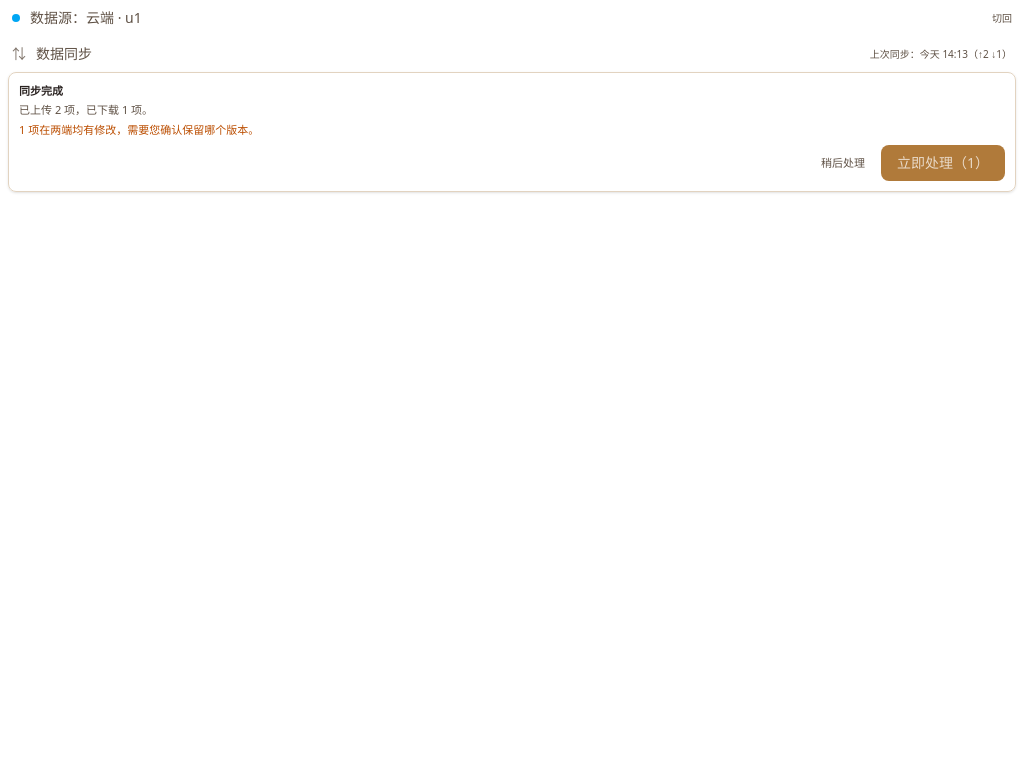
Test: DataSourceSwitch › 带着「刚登录」标记挂载 = 自动对账，有未决冲突时出读数卡，立即处理落在裁决屏
The width and height of the screenshot is (1024, 768).
Expected: the text "同步完成" is shown, [19,83,63,98]
Expected: the text "已上传 2 项，已下载 1 项。" is shown, [19,102,153,117]
Click the button "立即处理（1）": [943, 163] box [881,145,1005,181]
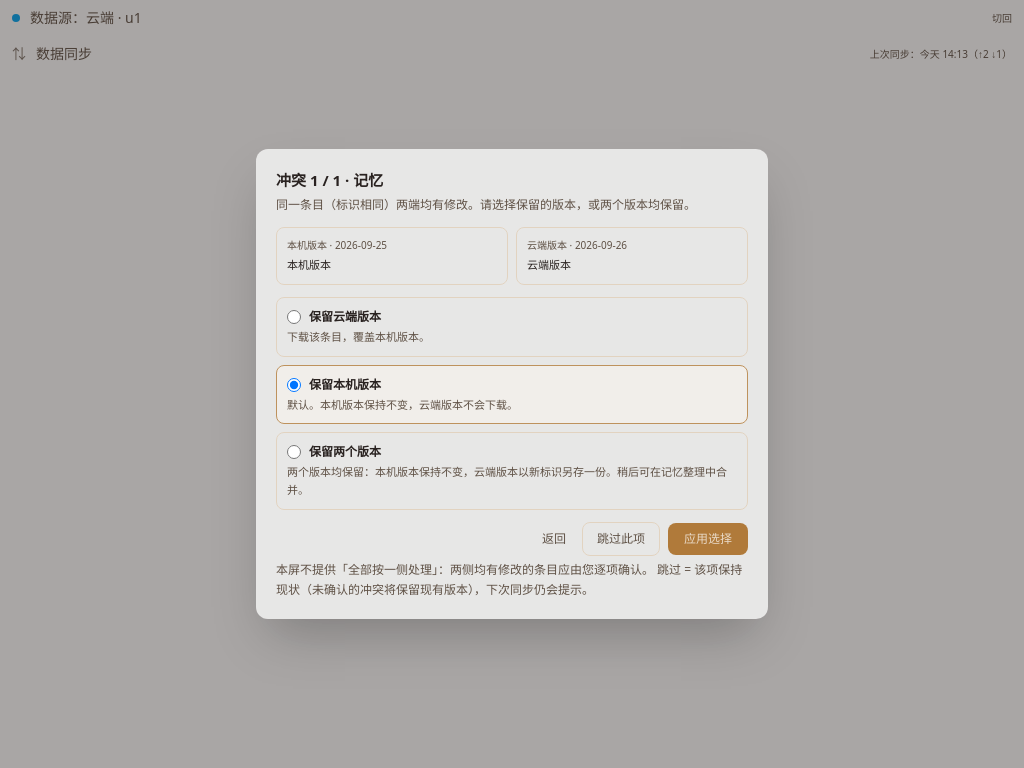
Expected: the heading "冲突 1 / 1 · 记忆" is shown, [276,170,383,190]
Expected: the text "保留两个版本" is shown, [309,443,381,461]
